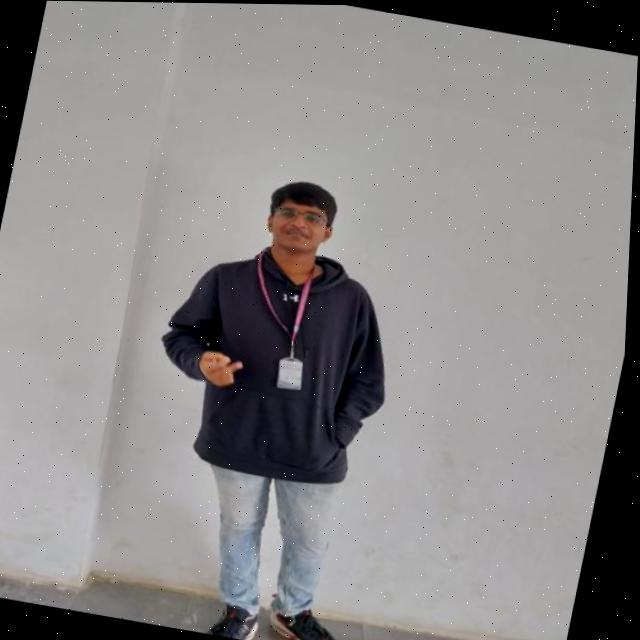id_card: (234, 238, 339, 397)
